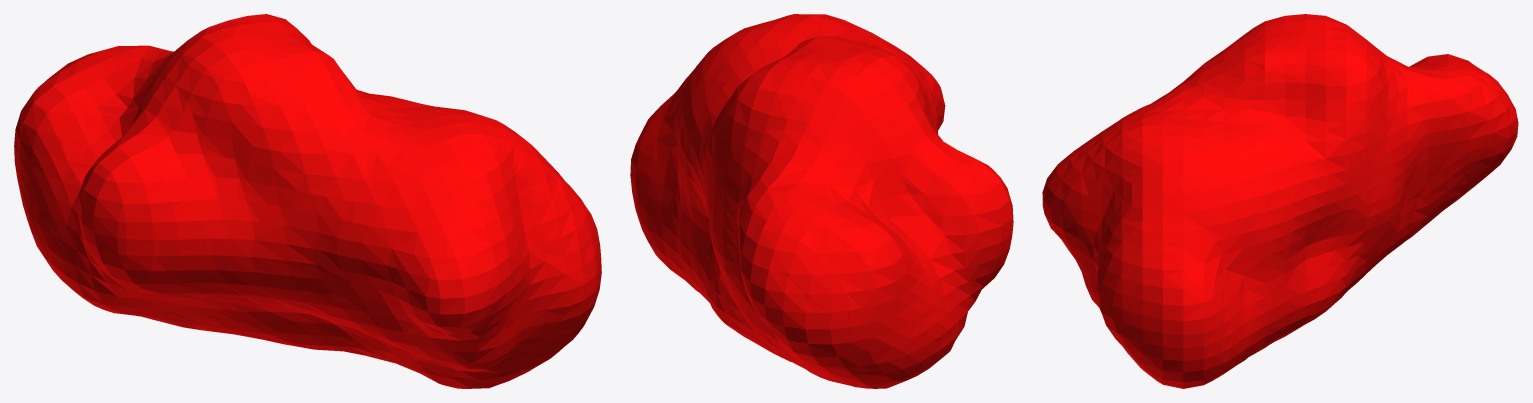
File: ygaM_coarse.dae
3 views of the same model, side by side, from view 1: azimuth 30°, elevation 25°; view 2: azimuth 150°, elevation 25°; view 3: azimuth 270°, elevation 25° (orthographic). The views are drawn at different scales.
Parts seen in each view (by area): view 1: ygaM; view 2: ygaM; view 3: ygaM.
Boxes of the visible parts, x1,y1,x2,y2 form: ygaM: (14,14,601,388); ygaM: (630,14,1013,388); ygaM: (1042,14,1518,388).
Bounding box in the file's own units: 45.29 × 33.26 × 50.1.
